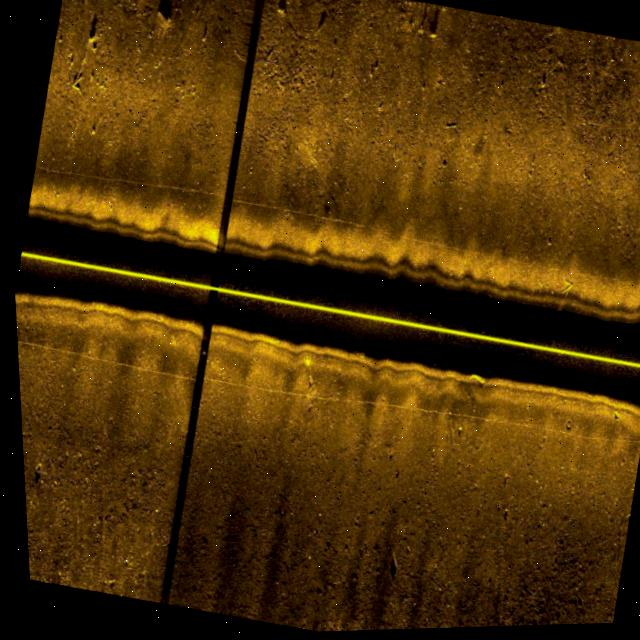mine: (374, 548, 397, 589), (462, 375, 484, 390), (448, 428, 456, 440)
other: (287, 371, 319, 414), (149, 0, 174, 28)
